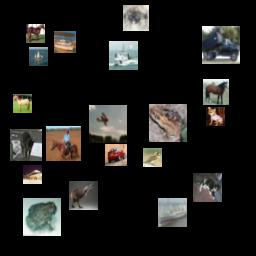airplane: (89, 105, 127, 143), (23, 165, 42, 184)
automobile: (105, 144, 127, 166)
bird: (69, 181, 98, 210), (143, 148, 162, 167)
cat: (10, 129, 42, 161), (193, 173, 222, 202)
dog: (123, 5, 149, 31), (206, 107, 225, 126)
frog: (23, 198, 61, 236), (149, 104, 187, 142)
ship: (109, 41, 138, 70), (158, 198, 187, 227), (54, 31, 76, 53), (29, 47, 48, 66)
truck: (202, 26, 240, 64)
